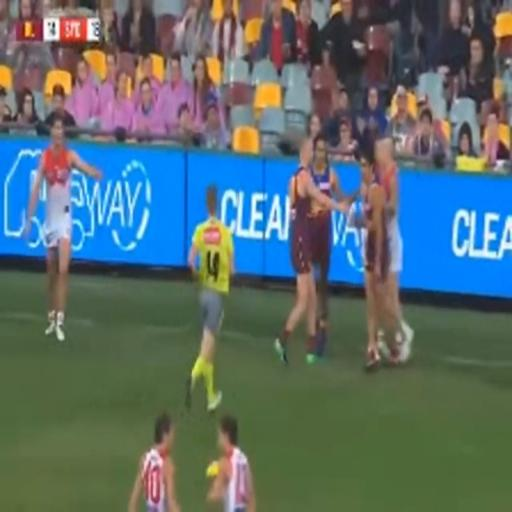nao-violencia: (264, 115, 422, 380)
